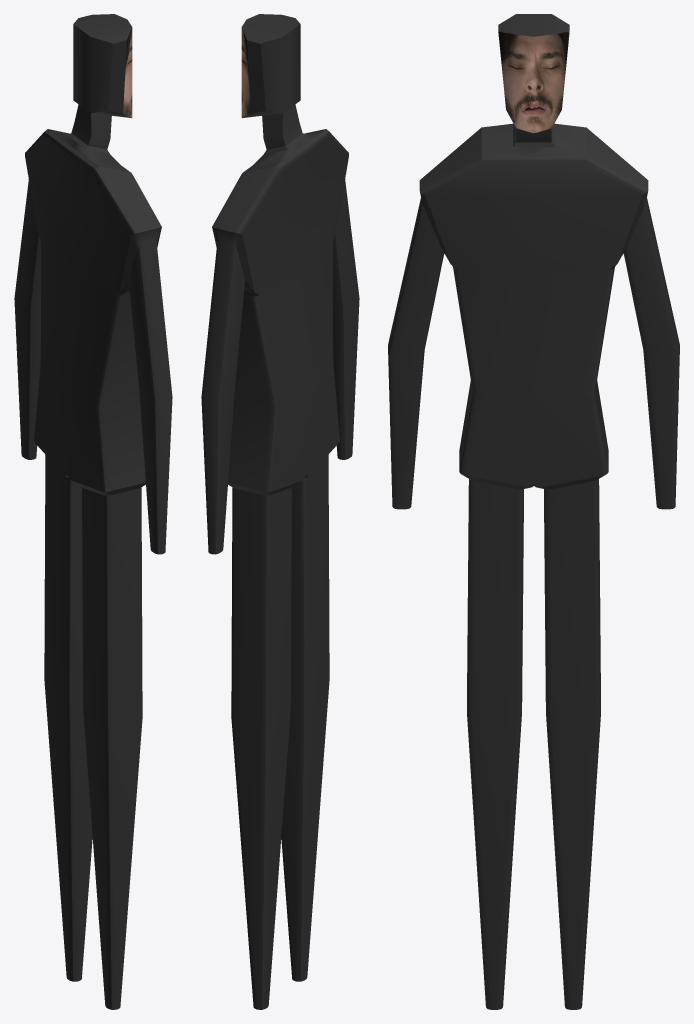
File: bear_dead.fbx
3 renders of one model, left to right at view 1: azimuth 30°, elevation 25°; view 2: azimuth 150°, elevation 25°; view 3: azimuth 270°, elevation 25°, orthographic. The views are drawn at different scales.
Visible parts, largest first — view 1: bear_dead; view 2: bear_dead; view 3: bear_dead.
Part boxes in pixels (<box>): bear_dead: <box>14,14,172,1009</box>; bear_dead: <box>201,14,359,1009</box>; bear_dead: <box>388,14,679,1009</box>.
Bounding box in the file's own units: 0.7035 × 10.93 × 2.93.
